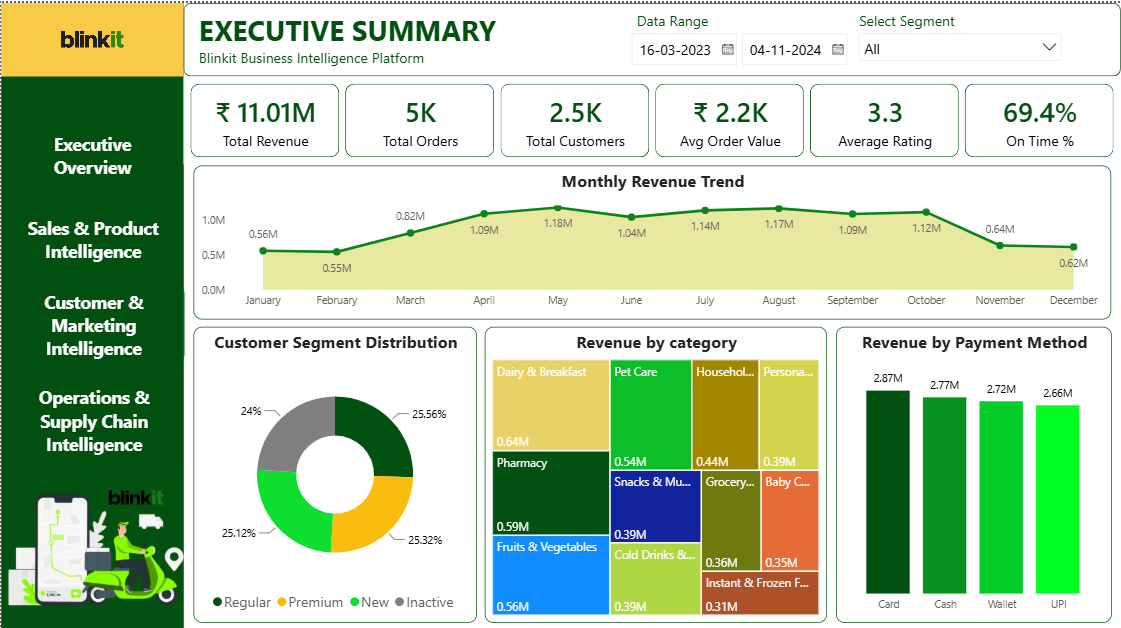

This screenshot's page, from the dashboard's own definition file:
{"tool":"powerbi","page":{"name":"Executive Overview","canvas":[1280,720],"ordinal":0},"visuals":[{"type":"shape","box":[0,0,209.1,719.5],"z":0},{"type":"image","box":[0,0,208.8,83.8],"z":1000},{"type":"shape","box":[208.8,0,1071.2,83.8],"z":2000},{"type":"cardVisual","fields":{"Data":["Measuress.Total Revenue","Measuress.Total Orders","Measuress.Total Customers","Measuress.AOV","Measuress.Average Rating","Measuress.On Time %"]},"box":[208.8,83.8,1071.2,100],"z":3000},{"type":"areaChart","title":"Monthly Revenue Trend ","fields":{"Y":["Measuress.Total Revenue"],"Category":["public orders.order_date.Variation.Date Hierarchy.Month"]},"box":[220,185,1048.8,176.2],"z":4000},{"type":"donutChart","title":"Customer Segment Distribution","fields":{"Category":["public customers.customer_segment"],"Y":["Measuress.Total Customers"]},"box":[220.1,370.5,324.1,338.7],"z":5000},{"type":"treemap","fields":{"Group":["public products.category"],"Values":["Measuress.Revenue"]},"box":[552.7,370.5,391.3,338.7],"z":6000},{"type":"clusteredColumnChart","title":"Revenue by Payment Method","fields":{"Category":["public orders.payment_method"],"Y":["Measuress.Total Revenue"]},"box":[953.8,370.5,315.5,338.7],"z":7000},{"type":"actionButton","box":[11.2,136.2,186.2,77.5],"z":8000},{"type":"actionButton","box":[17.5,231.2,176.2,77.5],"z":9000},{"type":"actionButton","box":[1.2,322.8,209.1,88],"z":10000},{"type":"actionButton","box":[8.6,430.4,195.7,94.2],"z":11000},{"type":"image","box":[1.2,525,208.8,195],"z":12000},{"type":"textbox","box":[210,3.8,393.8,75],"z":13000},{"type":"textbox","box":[721.2,3.8,108.8,37.5],"z":14000},{"type":"textbox","box":[976.2,3.8,186.2,37.5],"z":15000},{"type":"slicer","fields":{"Values":["public customers.customer_segment"]},"box":[976.2,30,241.2,45],"z":16000},{"type":"slicer","fields":{"Values":["public orders.order_date"]},"box":[712.5,30,263.8,50],"z":17000}]}

Visuals, with their boxes in screenshot pixels (x1, y1, x2, y2), scaled from the page's 1280x720 canvas onto the 1121x628 screenshot:
shape: {"x1": 0, "y1": 0, "x2": 183, "y2": 627}
image: {"x1": 0, "y1": 0, "x2": 183, "y2": 73}
shape: {"x1": 183, "y1": 0, "x2": 1120, "y2": 73}
cardVisual - Measuress.Total Revenue x Measuress.Total Orders: {"x1": 183, "y1": 73, "x2": 1120, "y2": 160}
"Monthly Revenue Trend " areaChart: {"x1": 193, "y1": 161, "x2": 1111, "y2": 315}
"Customer Segment Distribution" donutChart: {"x1": 193, "y1": 323, "x2": 477, "y2": 619}
treemap - public products.category x Measuress.Revenue: {"x1": 484, "y1": 323, "x2": 827, "y2": 619}
"Revenue by Payment Method" clusteredColumnChart: {"x1": 835, "y1": 323, "x2": 1112, "y2": 619}
actionButton: {"x1": 10, "y1": 119, "x2": 173, "y2": 186}
actionButton: {"x1": 15, "y1": 202, "x2": 170, "y2": 269}
actionButton: {"x1": 1, "y1": 282, "x2": 184, "y2": 358}
actionButton: {"x1": 8, "y1": 375, "x2": 179, "y2": 458}
image: {"x1": 1, "y1": 458, "x2": 184, "y2": 627}
textbox: {"x1": 184, "y1": 3, "x2": 529, "y2": 69}
textbox: {"x1": 632, "y1": 3, "x2": 727, "y2": 36}
textbox: {"x1": 855, "y1": 3, "x2": 1018, "y2": 36}
slicer - public customers.customer_segment: {"x1": 855, "y1": 26, "x2": 1066, "y2": 65}
slicer - public orders.order_date: {"x1": 624, "y1": 26, "x2": 855, "y2": 70}
